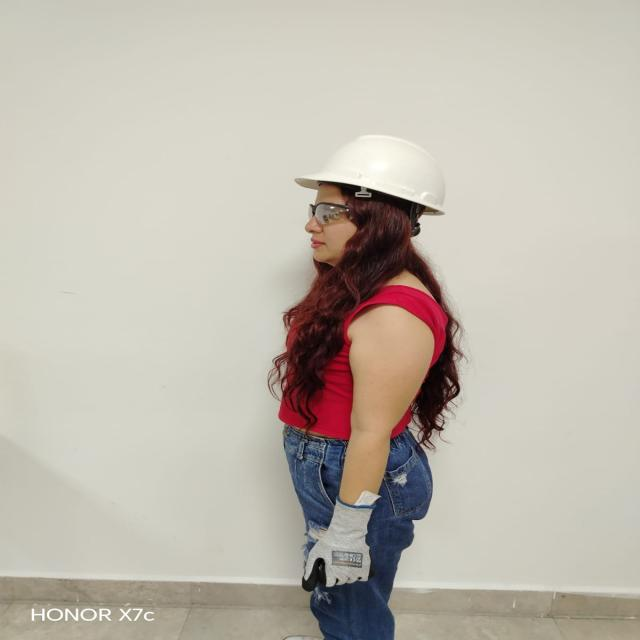gloves: (302, 499, 377, 593), (306, 201, 377, 226)
helmet: (288, 129, 447, 214)
